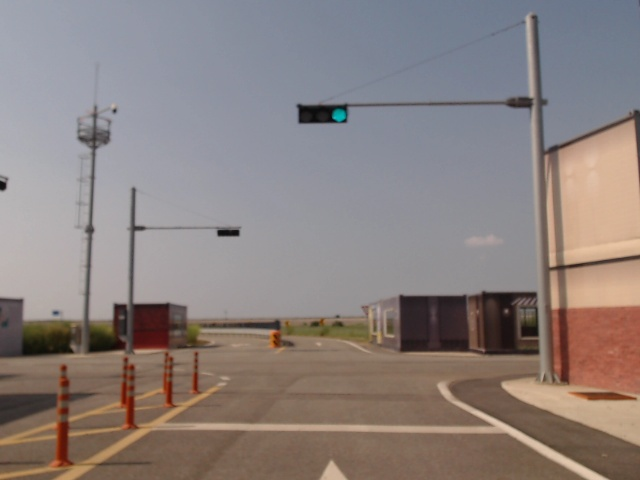green_3: (297, 105, 348, 124)
